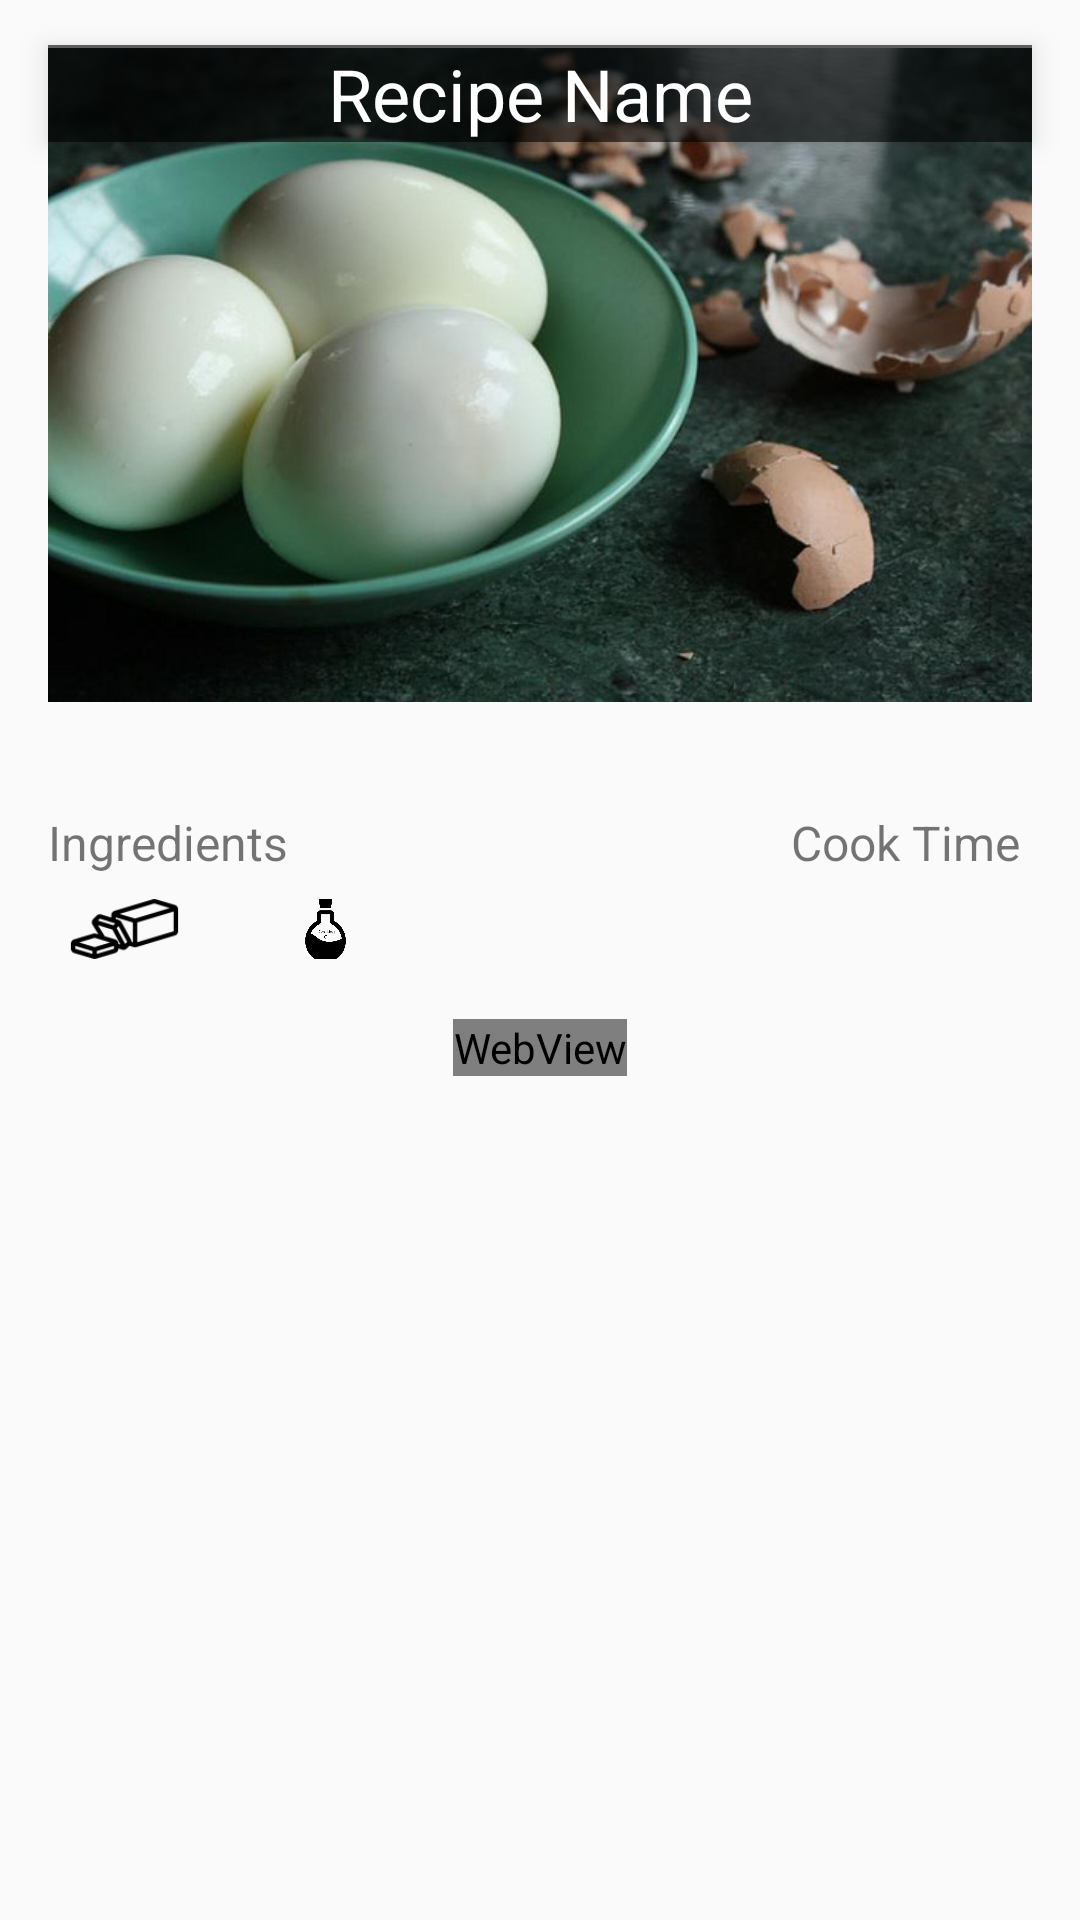

Where icons sit on this 1080w x 1920h app screen, as box=[x1, y1, x2, y2]:
butter: box=[70, 899, 179, 959]
cooking oil: box=[305, 899, 346, 959]
